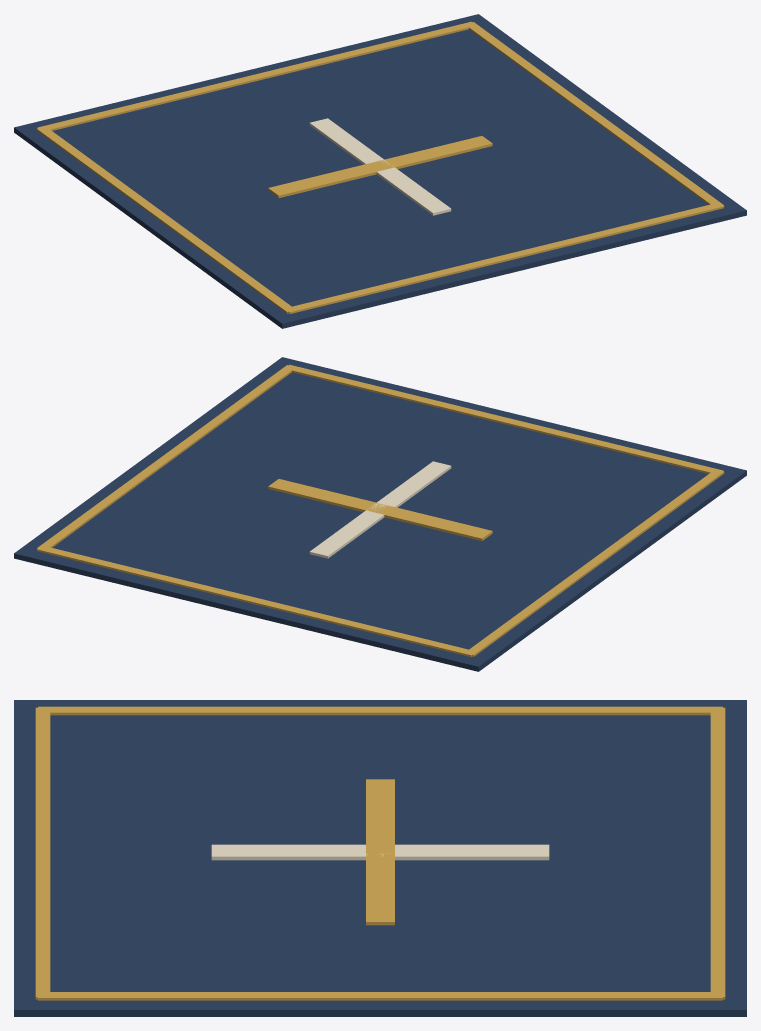
Rendered from woven_rug.glb.
The picture shows the model from 3 angles, top to bottom: view 1: azimuth 30°, elevation 25°; view 2: azimuth 150°, elevation 25°; view 3: azimuth 270°, elevation 25°; orthographic projection. The views are drawn at different scales.
Parts seen in each view (by area): view 1: woven_rug; view 2: woven_rug; view 3: woven_rug.
Boxes of the visible parts, x1=… form: woven_rug: x1=14, y1=14, x2=746, y2=328; woven_rug: x1=14, y1=357, x2=746, y2=671; woven_rug: x1=14, y1=700, x2=746, y2=1016.
Bounding box in the file's own units: 7.6 × 0.13 × 7.6.
